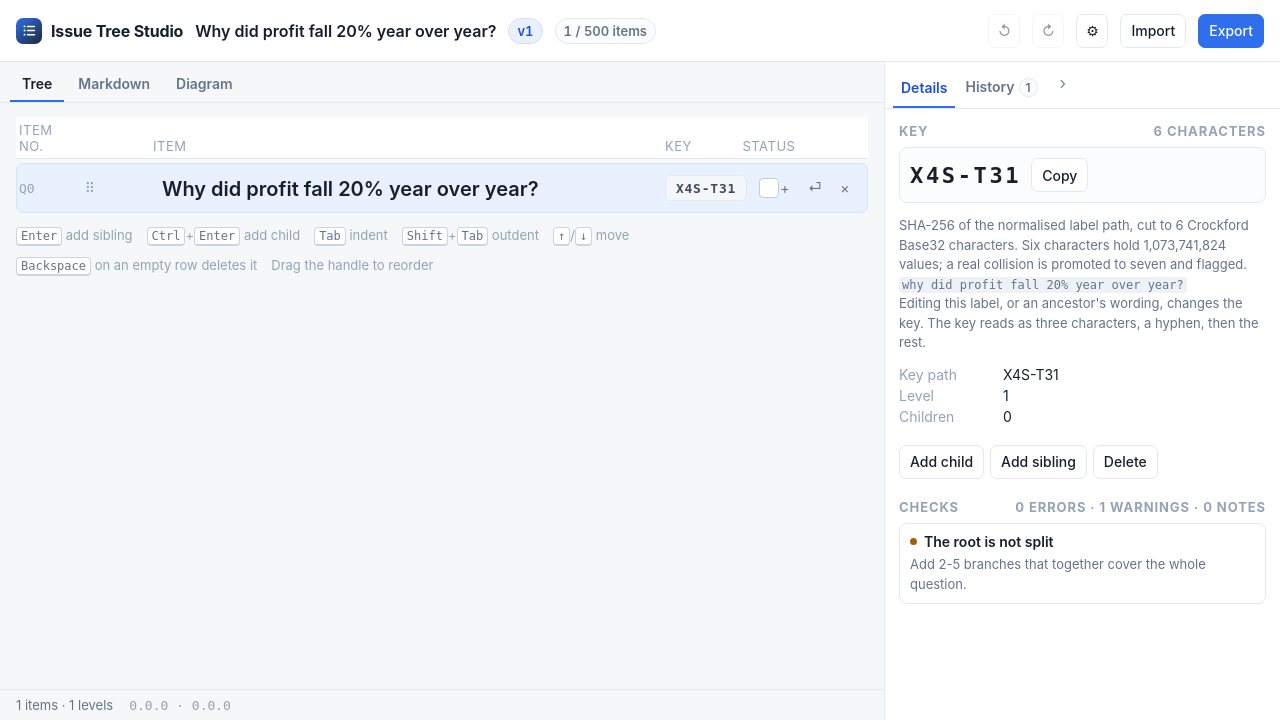
Test: item status › marks an item complete from its row checkbox
The image size is (1280, 720).
Expected: the list item is shown, top-left (16, 163), bottom-right (868, 213)
Click the button named "Mark this item complete" at (769, 188), box top-left (759, 178), bottom-right (779, 198)
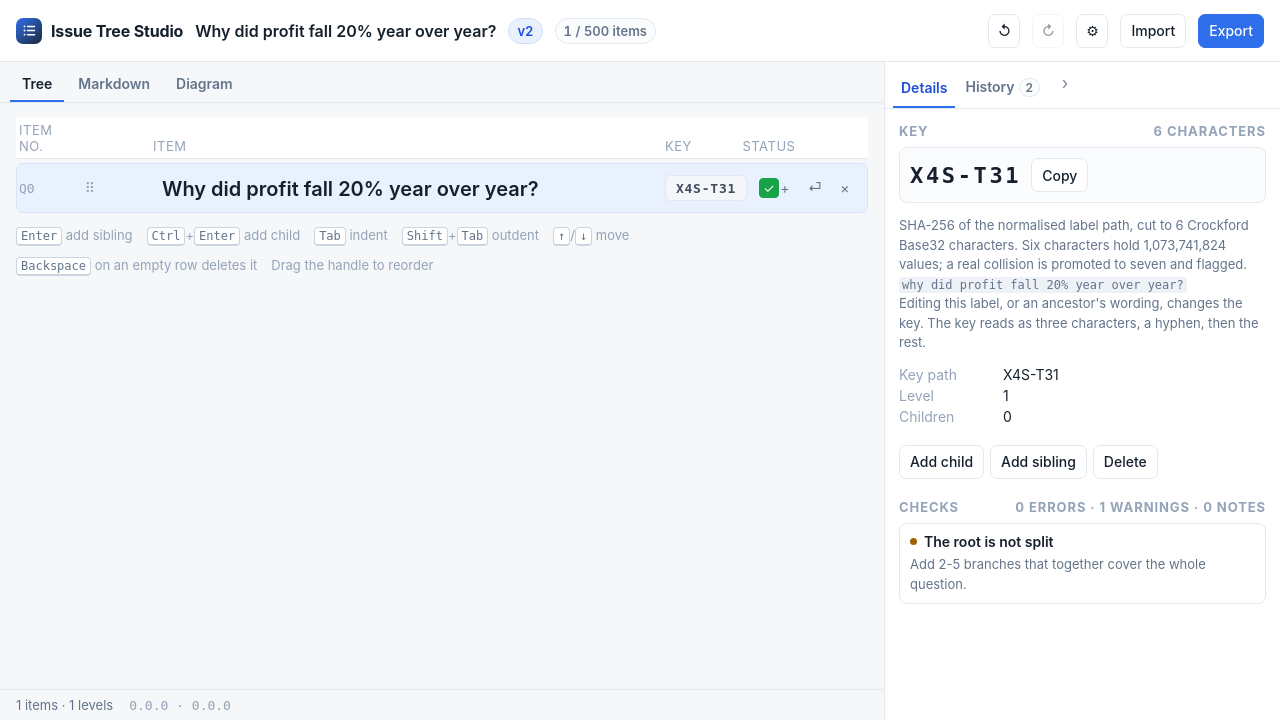
Expected: the button named "Mark this item open" is shown, top-left (759, 178), bottom-right (779, 198)
